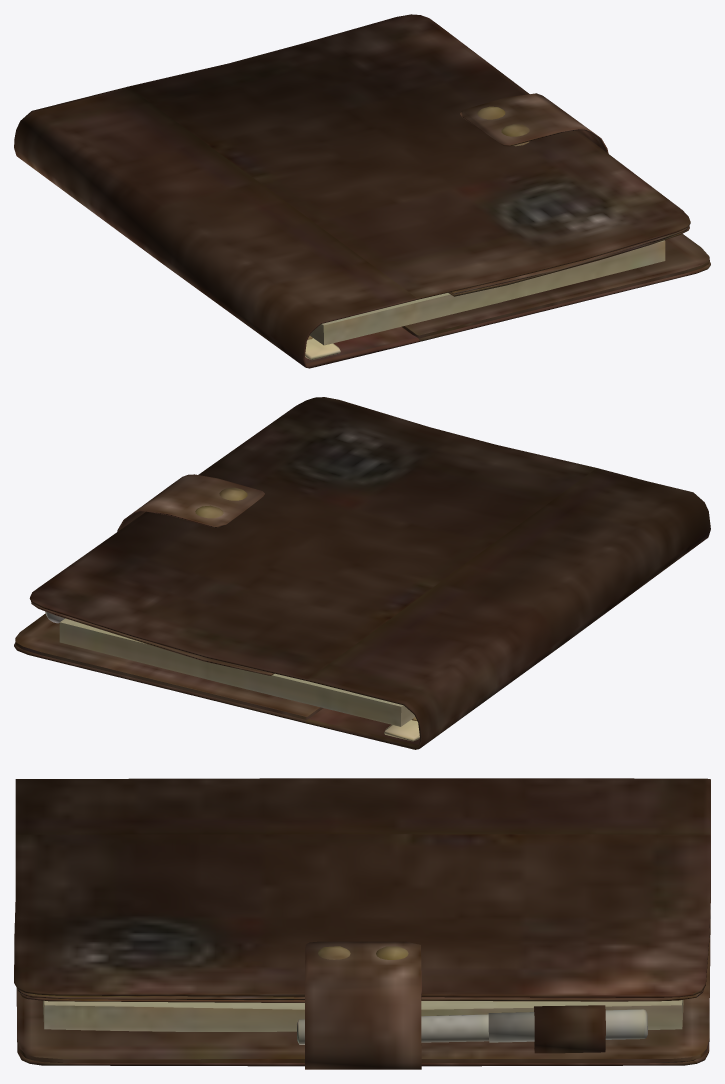
The model's file is notebook.glb.
3 renders of one model, top to bottom at view 1: azimuth 30°, elevation 25°; view 2: azimuth 150°, elevation 25°; view 3: azimuth 270°, elevation 25°, orthographic. The views are drawn at different scales.
Parts seen in each view (by area): view 1: binder_notebook_closed; view 2: binder_notebook_closed; view 3: binder_notebook_closed.
Boxes of the visible parts, bbox=[...] form: binder_notebook_closed: bbox=[14, 14, 710, 368]; binder_notebook_closed: bbox=[14, 397, 710, 749]; binder_notebook_closed: bbox=[14, 778, 710, 1069].
Bounding box in the file's own units: 0.1704 × 0.0252 × 0.1997.
1 material, 1 textured.
